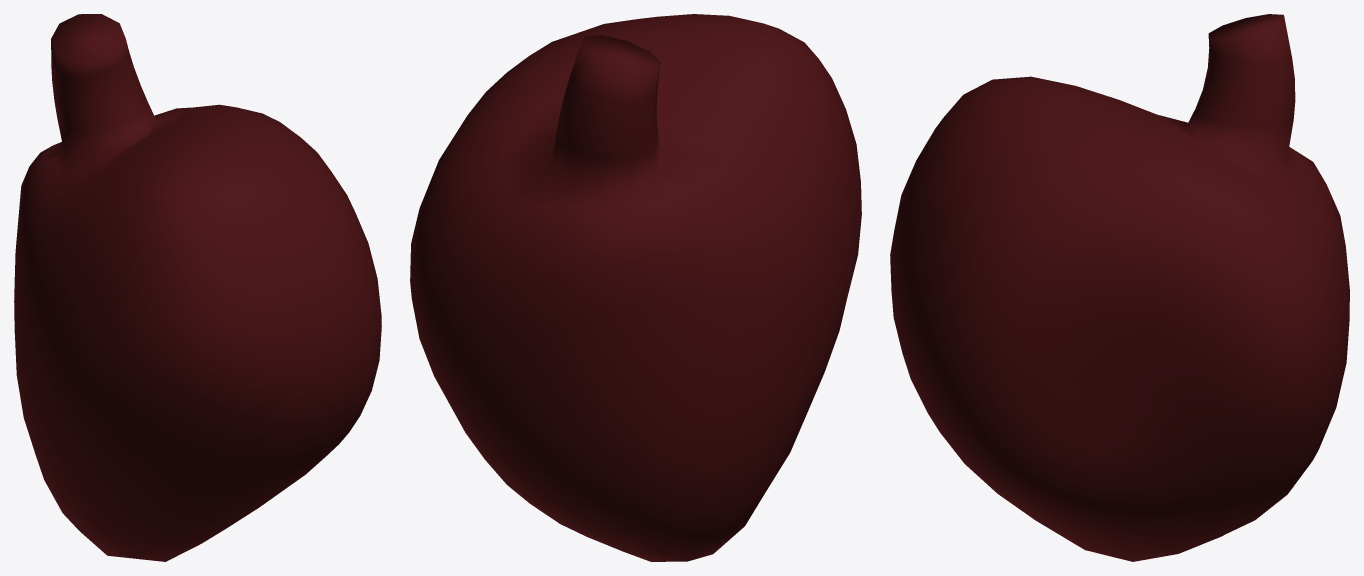
Rendered from coeur_5.fbx.
The picture shows the model from 3 angles, left to right: view 1: azimuth 30°, elevation 25°; view 2: azimuth 150°, elevation 25°; view 3: azimuth 270°, elevation 25°; orthographic projection. The views are drawn at different scales.
Parts seen in each view (by area): view 1: Cube; view 2: Cube; view 3: Cube.
Boxes of the visible parts, x1,y1,x2,y2 form: Cube: (14, 14, 381, 561); Cube: (410, 14, 861, 561); Cube: (890, 14, 1349, 561).
Size of the model in its own units: 138 by 226 by 174.
